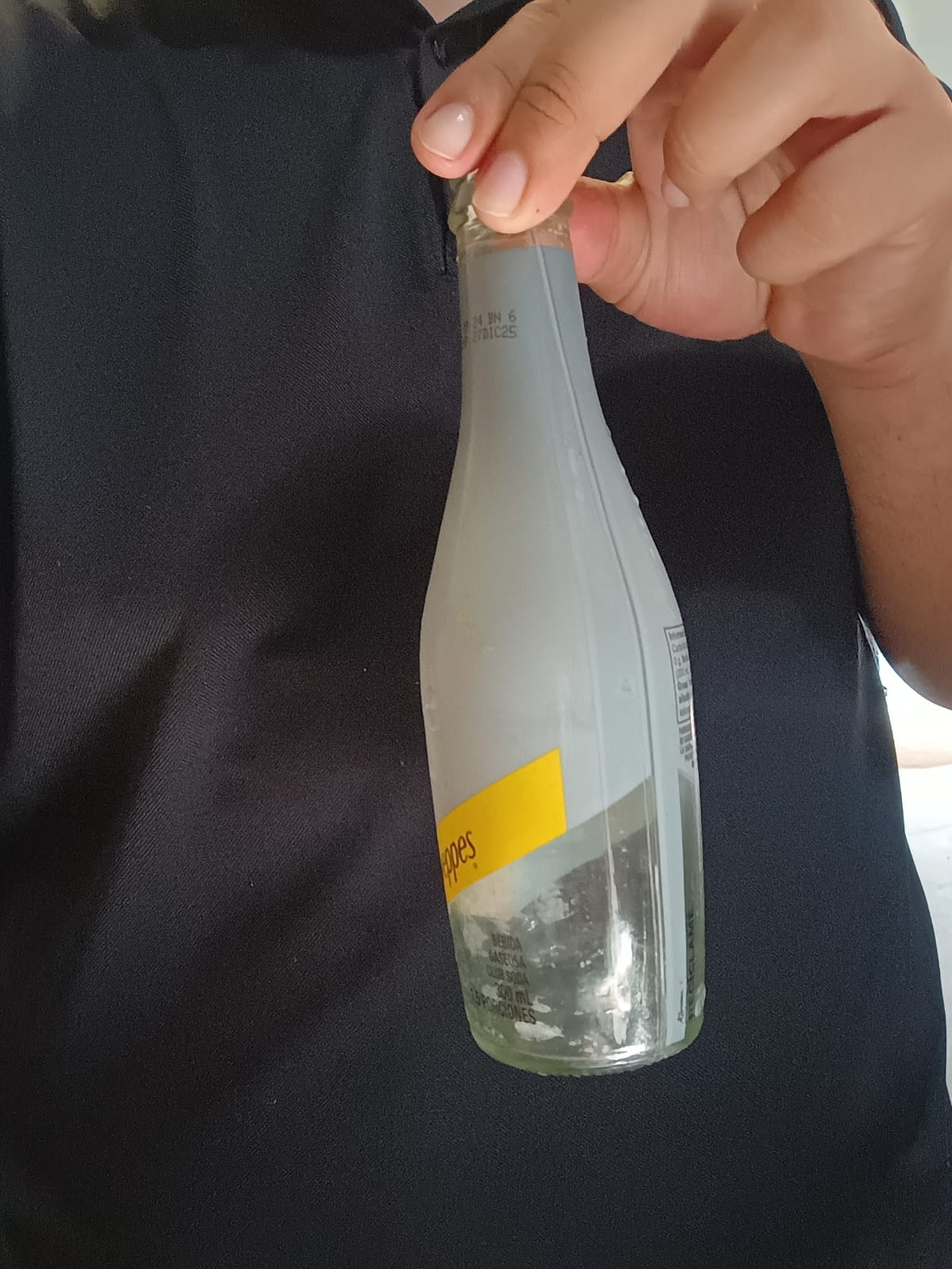Vidrio: (416, 170, 708, 1073)
